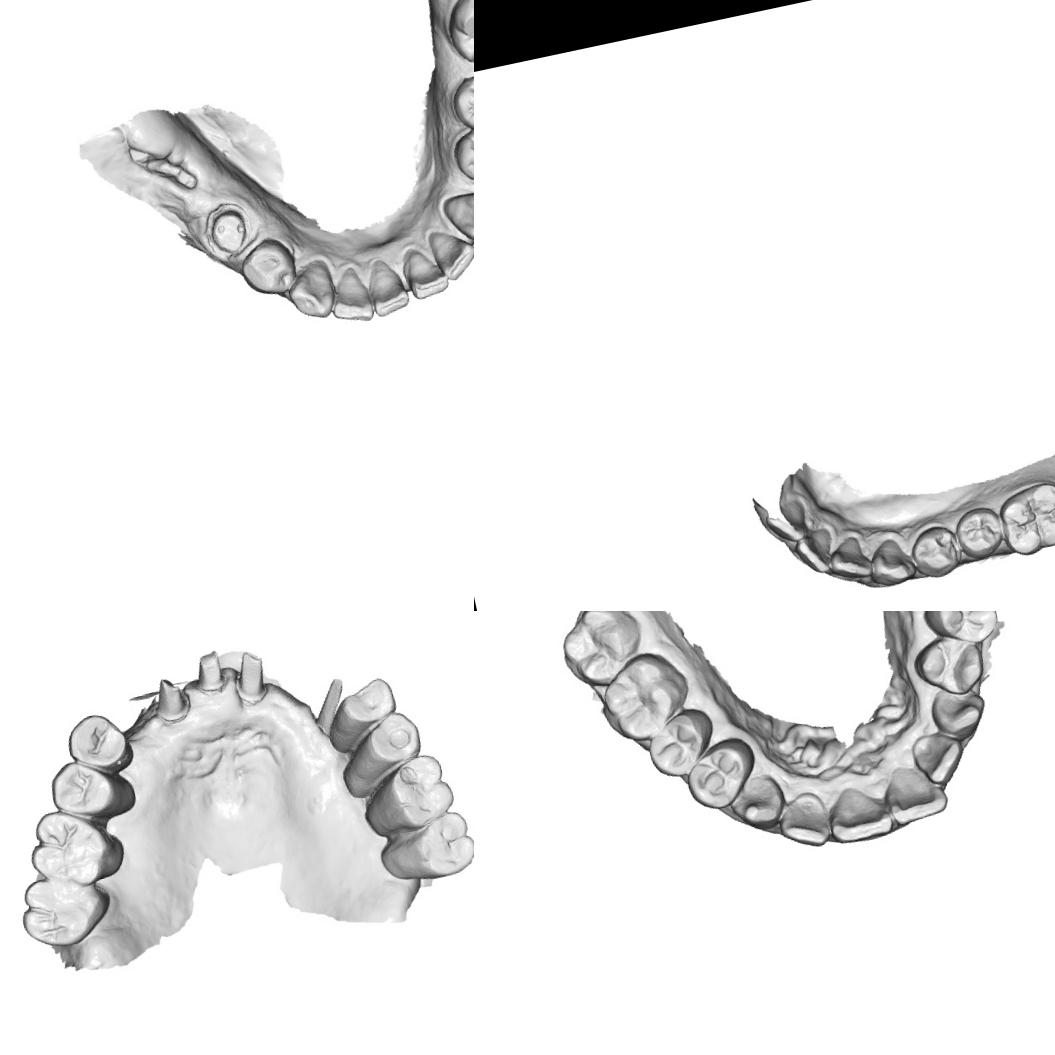canine: (926, 679, 993, 746), (725, 770, 790, 832), (864, 534, 920, 592), (439, 185, 474, 248)
crown: (200, 199, 253, 259), (306, 677, 354, 739), (147, 672, 195, 726), (228, 648, 271, 707), (188, 648, 231, 698)
incisor: (820, 774, 898, 848), (878, 754, 952, 826), (772, 785, 837, 856), (906, 726, 971, 792), (282, 258, 340, 324), (324, 264, 377, 328), (362, 254, 413, 319), (427, 223, 474, 284), (824, 531, 876, 586), (402, 244, 451, 302), (789, 524, 839, 580), (761, 497, 812, 548)
molar: (592, 644, 700, 754), (22, 798, 130, 895), (353, 750, 460, 842), (14, 865, 118, 954), (548, 611, 651, 694), (374, 807, 474, 890), (993, 475, 1055, 560), (440, 0, 474, 71)
premolar: (330, 708, 430, 802), (45, 749, 140, 829), (678, 732, 764, 817), (318, 675, 405, 756), (637, 703, 718, 783), (909, 628, 992, 706), (62, 708, 138, 782), (236, 234, 302, 300), (918, 611, 1003, 655), (906, 520, 966, 582), (950, 502, 1008, 564), (446, 68, 474, 137), (449, 123, 474, 187)
